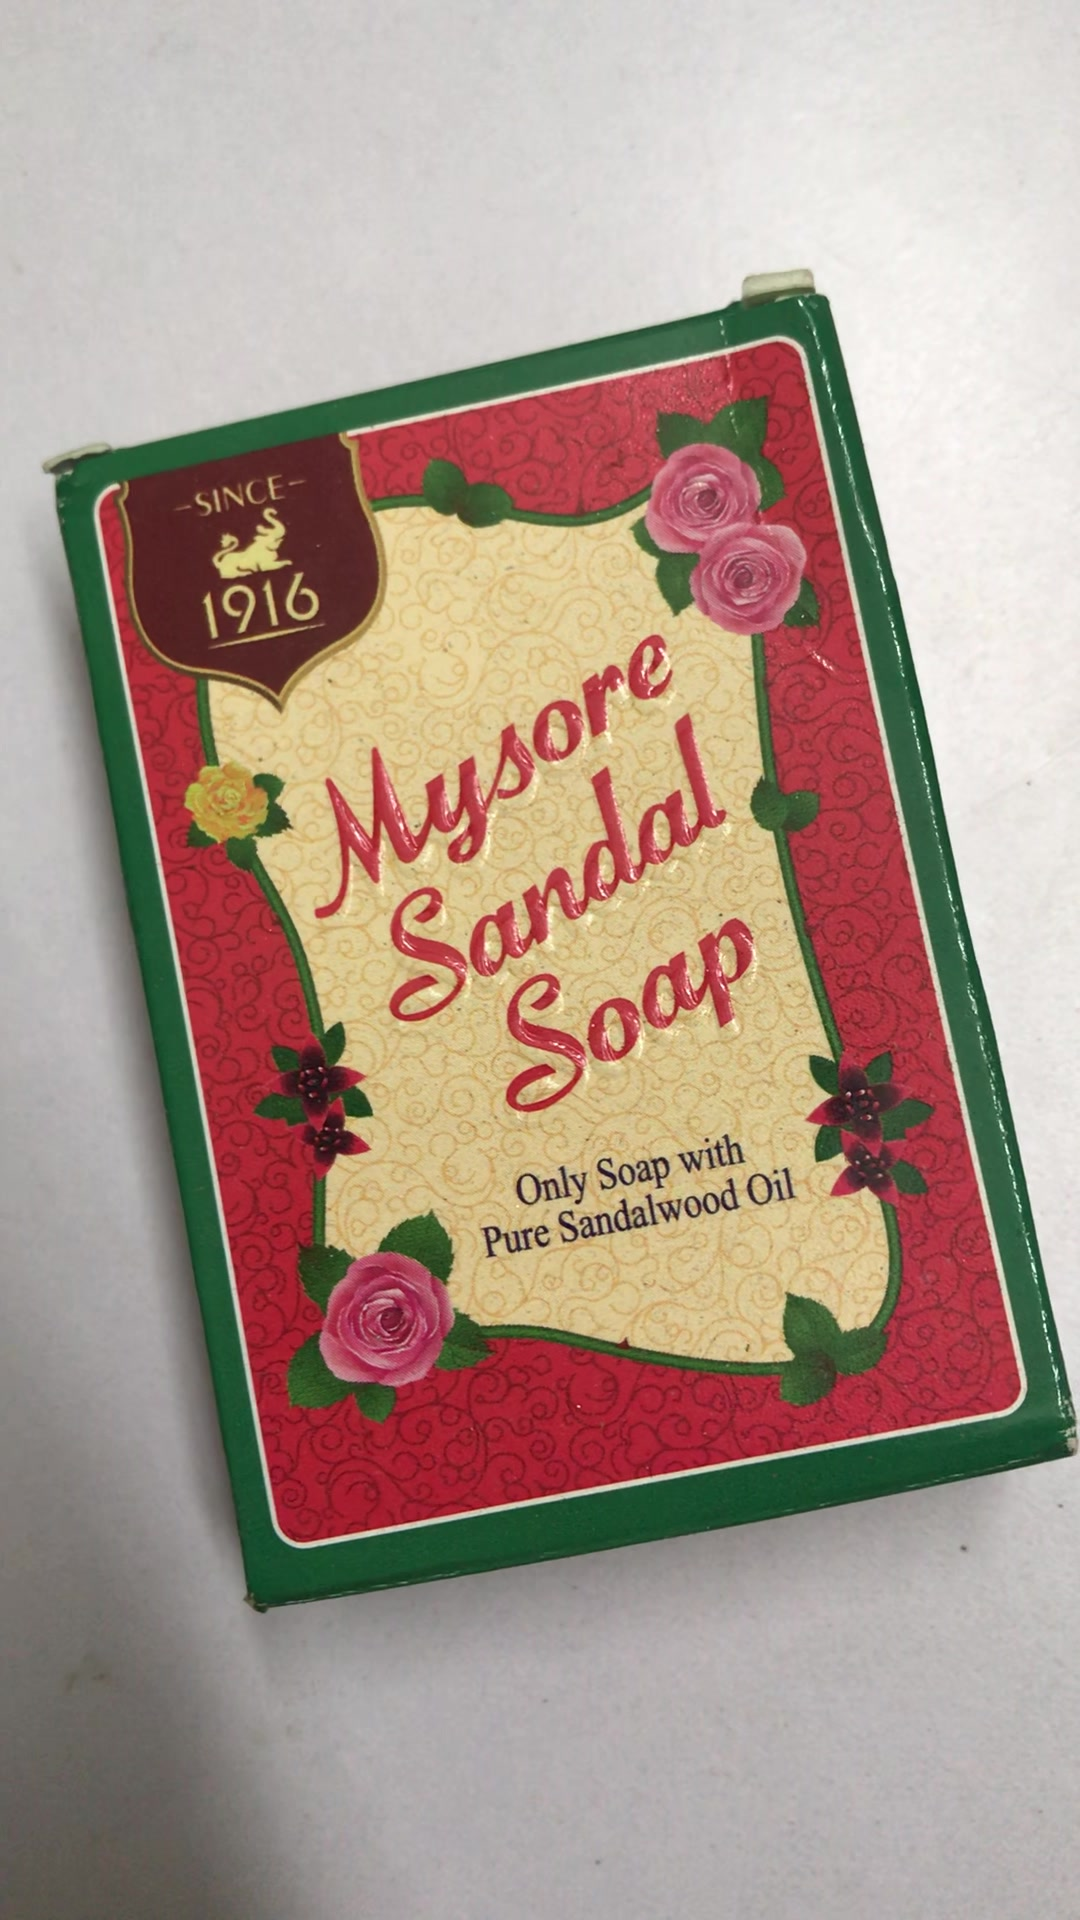mysore sandal soap: (63, 305, 1080, 1604)
